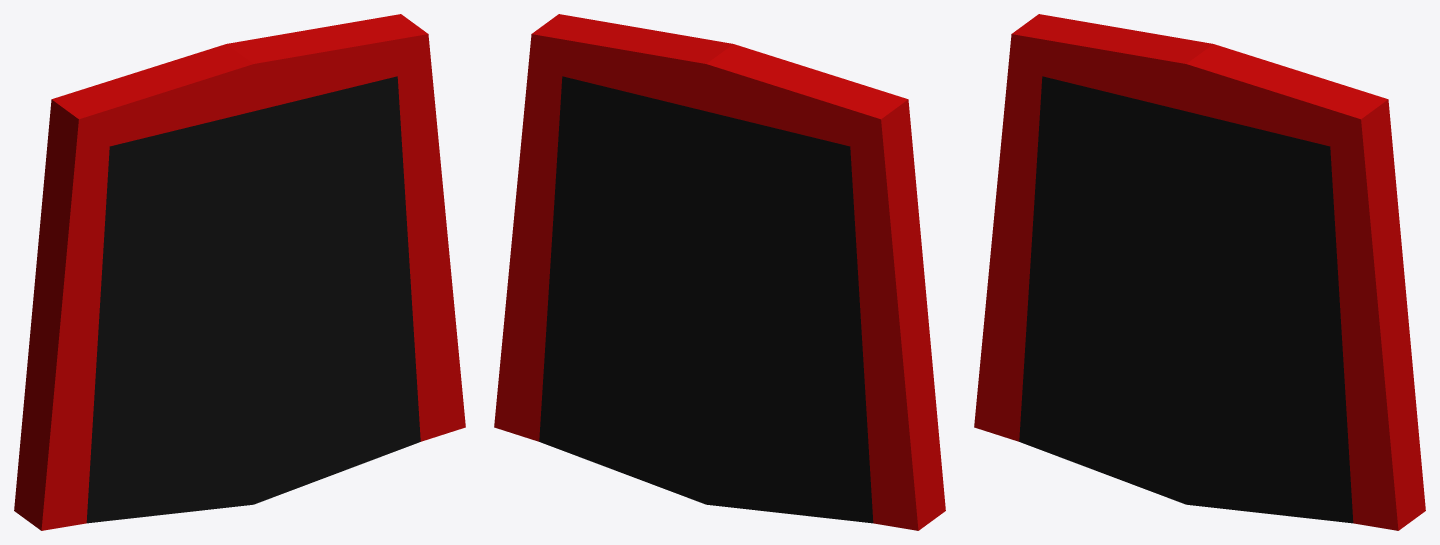
The model's file is obstacle2.fbx.
The picture shows the model from 3 angles, left to right: view 1: azimuth 30°, elevation 25°; view 2: azimuth 150°, elevation 25°; view 3: azimuth 330°, elevation 25°; orthographic projection.
Visible parts, largest first — view 1: obstacle; view 2: obstacle; view 3: obstacle.
Boxes of the visible parts, x1,y1,x2,y2 form: obstacle: (14,14,465,530); obstacle: (494,14,945,530); obstacle: (974,14,1425,530).
Size of the model in its own units: 0.7128 by 0.7073 by 0.0797.
